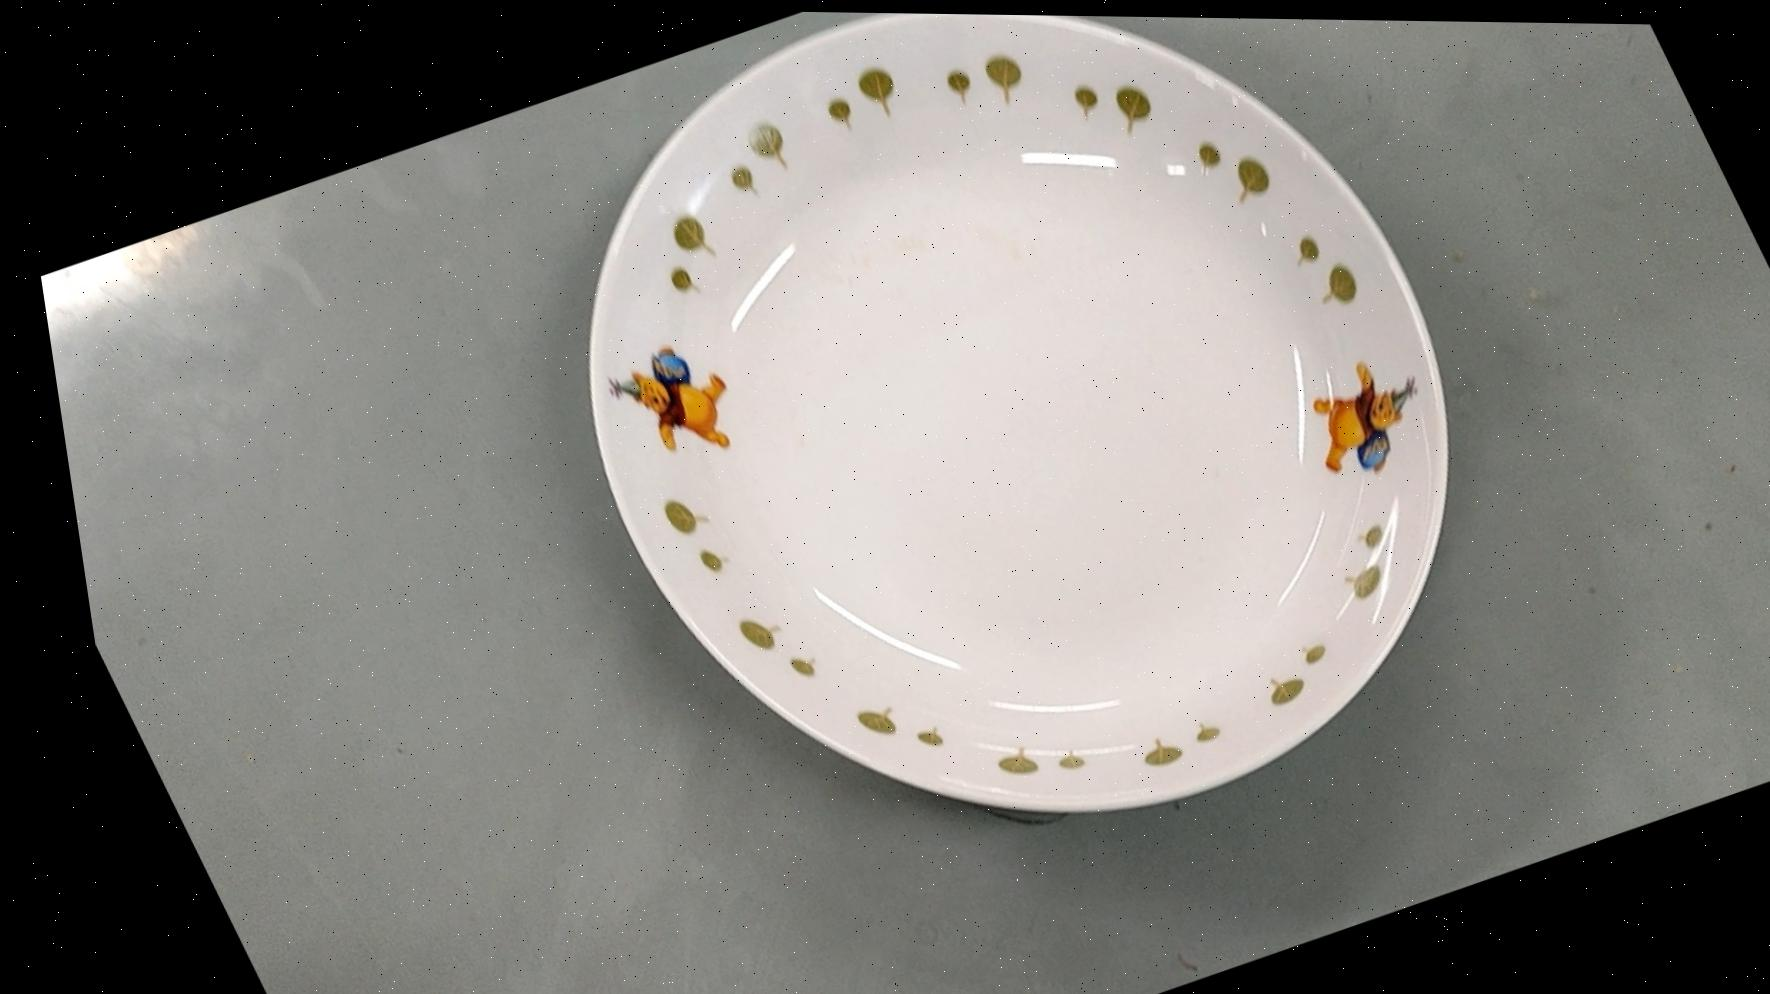plate: (428, 5, 1607, 936)
